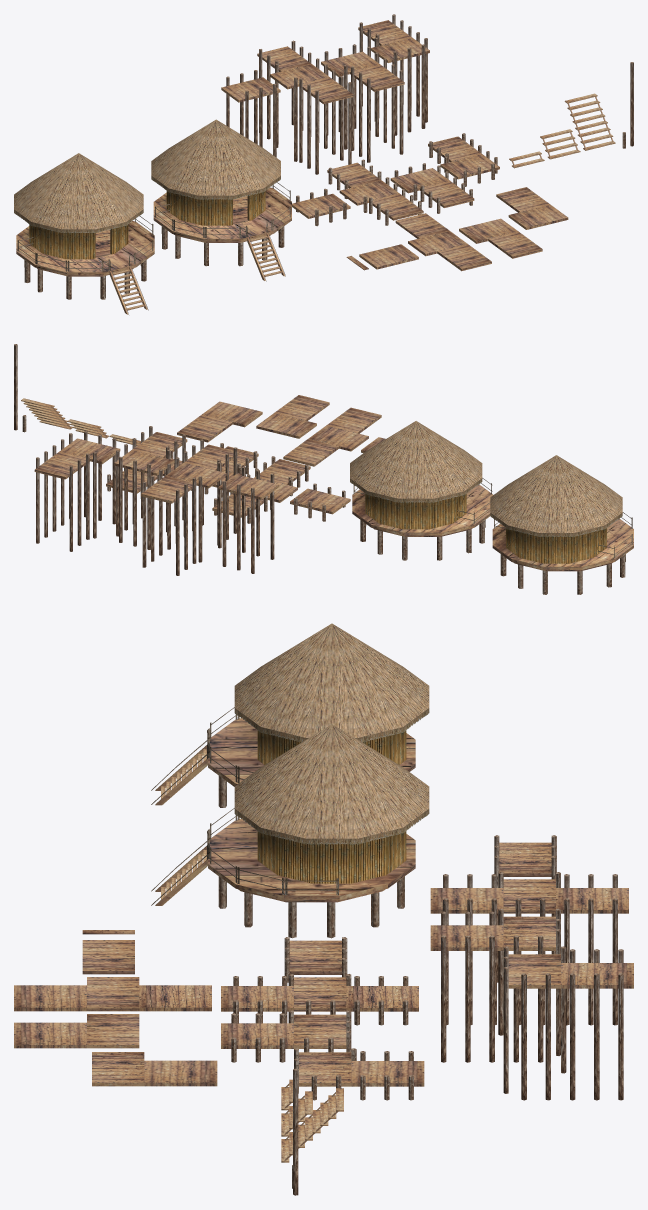
Rendered from NewBeachAssets_V2.fbx.
3 views of the same model, one above another, from view 1: azimuth 30°, elevation 25°; view 2: azimuth 150°, elevation 25°; view 3: azimuth 270°, elevation 25° (orthographic). The views are drawn at different scales.
Parts seen in each view (by area): view 1: Cabin.001, Cabin, Large Bridge Support 2, Large Bridge Support 3, Modular Bridge 2, Modular Short Bridge 2, Modular Large Bridge 2, Large Bridge Support 4, Modular Bridge 3, Modular Bridge 4, Modular Short Bridge 3, Modular Large Bridge 3 (+14 smaller); view 2: Cabin.001, Cabin, Large Bridge Support 2, Large Bridge Support 4, Modular Bridge 2, Modular Large Bridge 2, Large Bridge Support 3, Large Bridge Support 1, Modular Bridge 3, Modular Bridge 4, Modular Large Bridge 4, Modular Large Bridge 3 (+9 smaller); view 3: Cabin, Cabin.001, Modular Bridge 2, Large Bridge Support 4, Modular Short Bridge 2, Modular Large Bridge 2, Large Bridge Support 3, Large Bridge Support 2, Modular Bridge 3, Modular Bridge 4, Modular Short Bridge 3, Modular Short Bridge 4 (+11 smaller).
Boxes of the visible parts, x1=… form: Cabin.001: x1=14, y1=153, x2=154, y2=314; Cabin: x1=151, y1=119, x2=291, y2=280; Large Bridge Support 2: x1=259, y1=40, x2=351, y2=174; Large Bridge Support 3: x1=324, y1=44, x2=403, y2=162; Modular Bridge 2: x1=395, y1=213, x2=491, y2=271; Modular Short Bridge 2: x1=327, y1=162, x2=423, y2=220; Modular Large Bridge 2: x1=257, y1=46, x2=353, y2=104; Large Bridge Support 4: x1=359, y1=14, x2=427, y2=135; Modular Bridge 3: x1=459, y1=218, x2=542, y2=258; Modular Bridge 4: x1=496, y1=187, x2=568, y2=229; Modular Short Bridge 3: x1=390, y1=168, x2=474, y2=207; Modular Large Bridge 3: x1=321, y1=51, x2=404, y2=91; Cabin.001: x1=490, y1=455, x2=633, y2=571; Cabin: x1=350, y1=421, x2=493, y2=536; Large Bridge Support 2: x1=142, y1=439, x2=237, y2=575; Large Bridge Support 4: x1=36, y1=431, x2=116, y2=551; Modular Bridge 2: x1=283, y1=407, x2=381, y2=466; Modular Large Bridge 2: x1=141, y1=444, x2=239, y2=503; Large Bridge Support 3: x1=116, y1=426, x2=185, y2=549; Large Bridge Support 1: x1=222, y1=466, x2=274, y2=573; Modular Bridge 3: x1=256, y1=395, x2=329, y2=438; Modular Bridge 4: x1=177, y1=401, x2=262, y2=442; Modular Large Bridge 4: x1=34, y1=438, x2=120, y2=479; Modular Large Bridge 3: x1=114, y1=432, x2=187, y2=475; Cabin: x1=155, y1=724, x2=429, y2=905; Cabin.001: x1=155, y1=623, x2=429, y2=805; Modular Bridge 2: x1=14, y1=977, x2=211, y2=1011; Large Bridge Support 4: x1=503, y1=946, x2=623, y2=1100; Modular Short Bridge 2: x1=221, y1=977, x2=418, y2=1011; Modular Large Bridge 2: x1=430, y1=879, x2=628, y2=913; Large Bridge Support 3: x1=441, y1=908, x2=560, y2=1062; Large Bridge Support 2: x1=443, y1=872, x2=617, y2=1025; Modular Bridge 3: x1=14, y1=1014, x2=139, y2=1048; Modular Bridge 4: x1=92, y1=1052, x2=217, y2=1086; Modular Short Bridge 3: x1=221, y1=1014, x2=346, y2=1048; Modular Short Bridge 4: x1=299, y1=1052, x2=424, y2=1086.
Size of what is drawn, in the model's own units: 11603 by 2137 by 6882.
